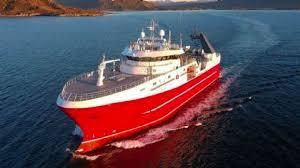Ship: (58, 21, 221, 154)
